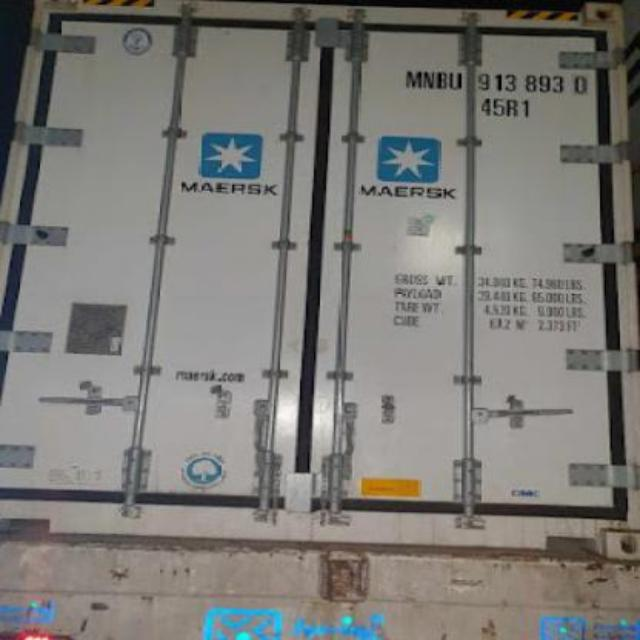0: (572, 70, 586, 100)
1: (491, 66, 504, 92)
3: (502, 64, 520, 96), (550, 65, 564, 98)
8: (524, 68, 538, 100)
9: (536, 68, 550, 98), (476, 65, 489, 91)
B: (434, 64, 448, 94)
M: (402, 64, 424, 92)
N: (422, 66, 436, 92)
U: (444, 66, 462, 94)
